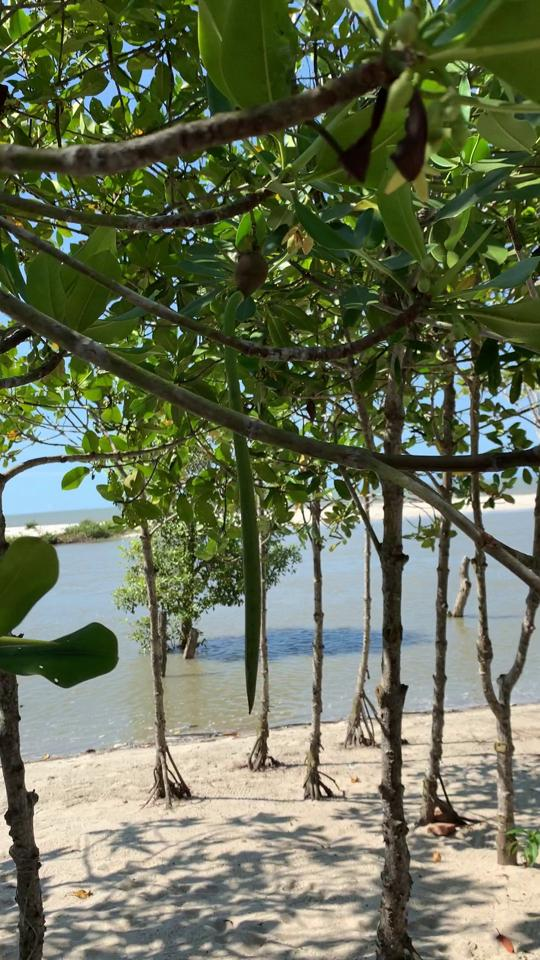setengah matang: (217, 244, 276, 719)
